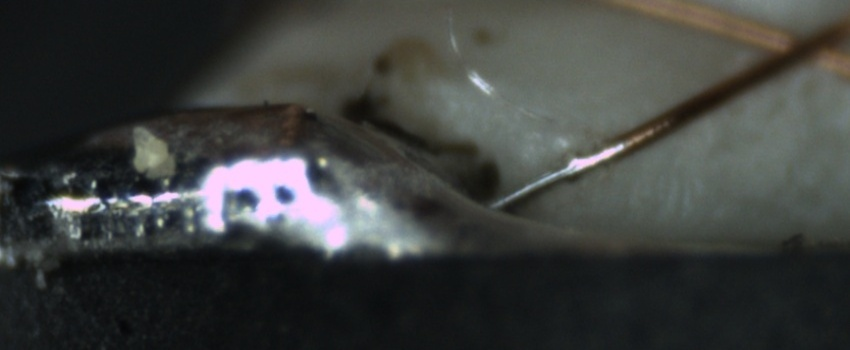TS: (486, 144, 624, 211)
TTCW: (491, 94, 698, 215)
